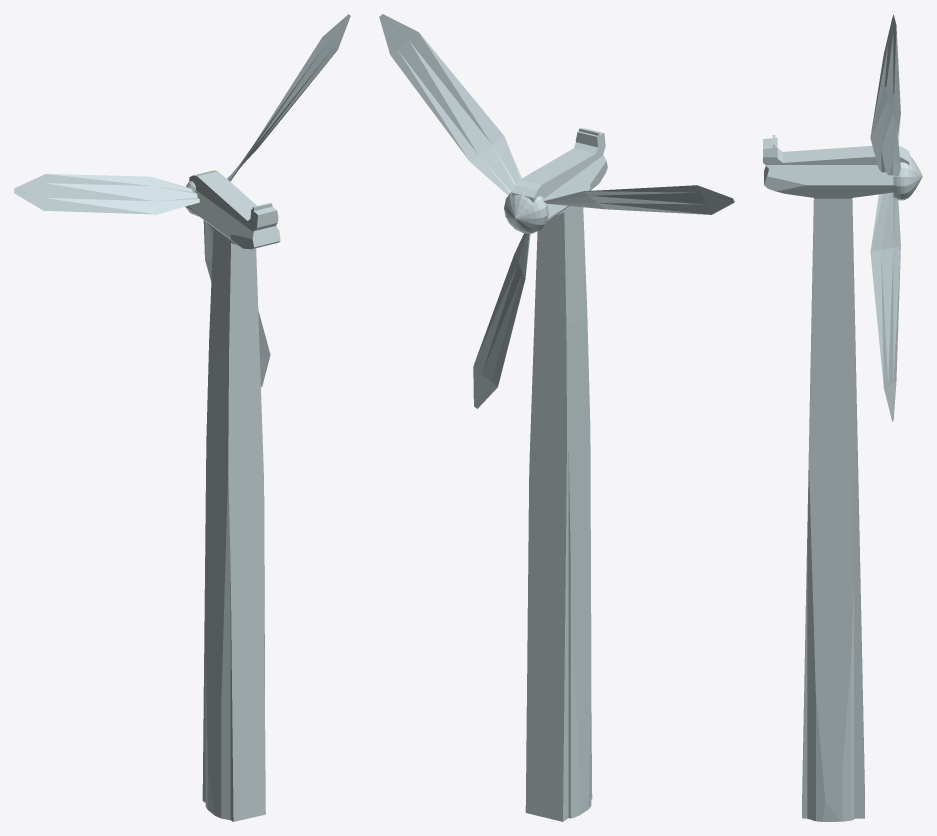
Rendered from TURB.glb.
3 renders of one model, left to right at view 1: azimuth 30°, elevation 25°; view 2: azimuth 150°, elevation 25°; view 3: azimuth 270°, elevation 25°, orthographic. The views are drawn at different scales.
Visible parts, largest first — view 1: Aircraft visual hull, Rotor 1791768159636-1e52scvtbsj; view 2: Aircraft visual hull, Rotor 1791768159636-1e52scvtbsj; view 3: Aircraft visual hull, Rotor 1791768159636-1e52scvtbsj.
Part boxes in pixels (x1,y1,x2,y2): Aircraft visual hull: (188, 170, 280, 821); Rotor 1791768159636-1e52scvtbsj: (14, 14, 350, 387); Aircraft visual hull: (512, 128, 607, 821); Rotor 1791768159636-1e52scvtbsj: (379, 14, 734, 408); Aircraft visual hull: (763, 135, 909, 821); Rotor 1791768159636-1e52scvtbsj: (870, 14, 922, 421).
Size of the model in its own units: 56.68 by 119 by 21.61.
